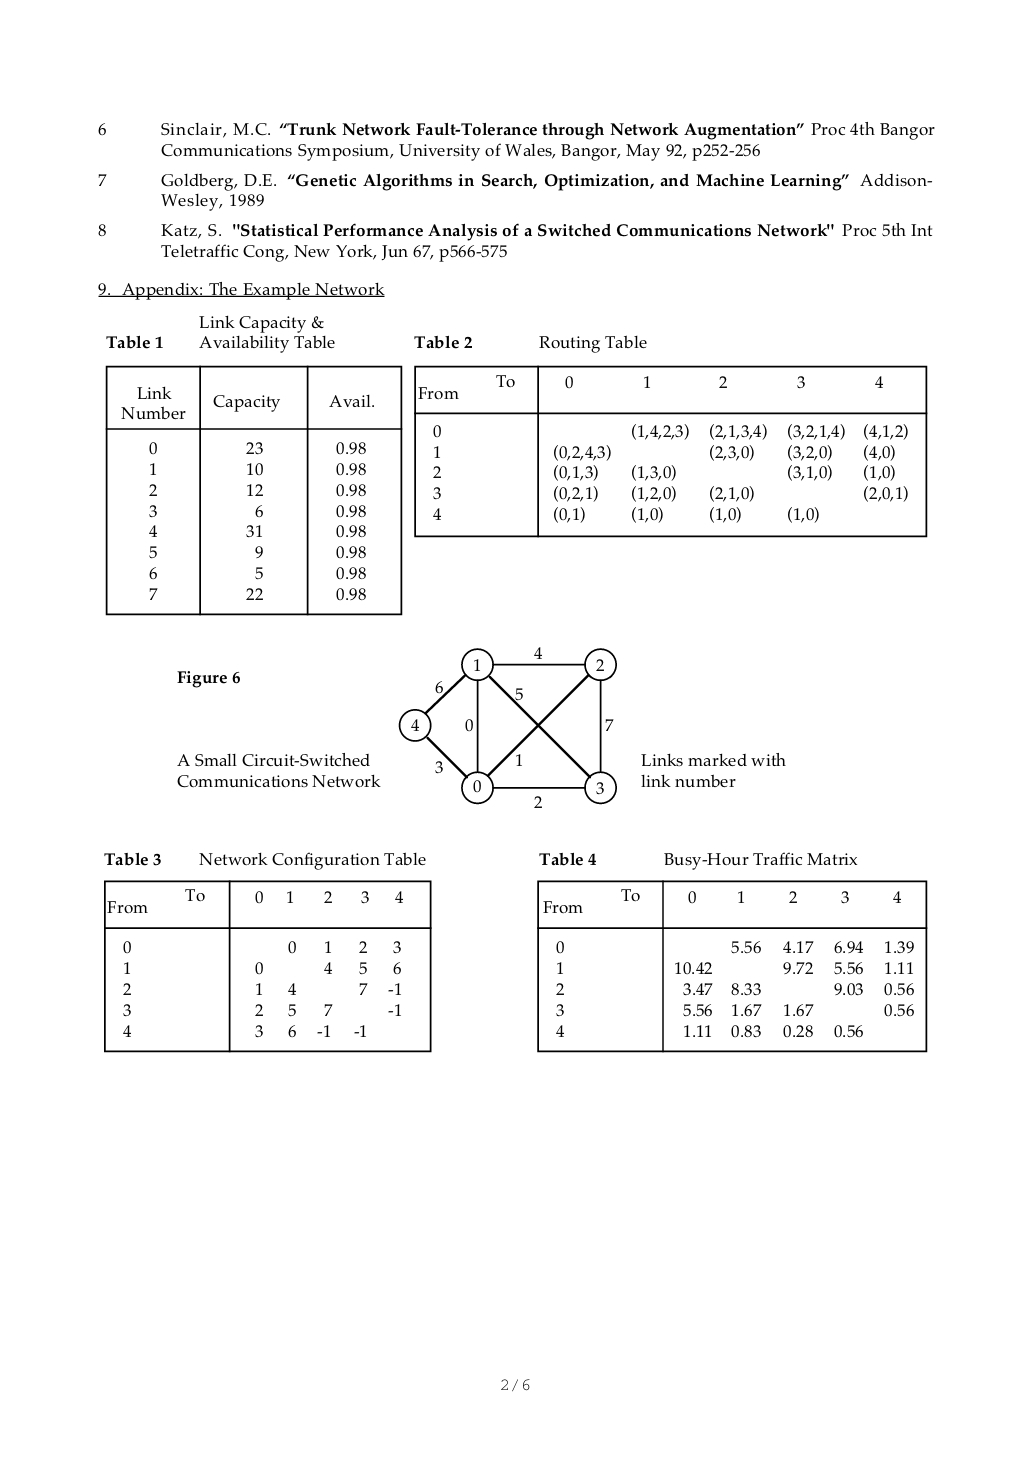Table: (414, 365, 927, 537), (105, 365, 402, 615), (537, 878, 927, 1053), (104, 878, 431, 1053)
figure: (398, 647, 616, 806)
